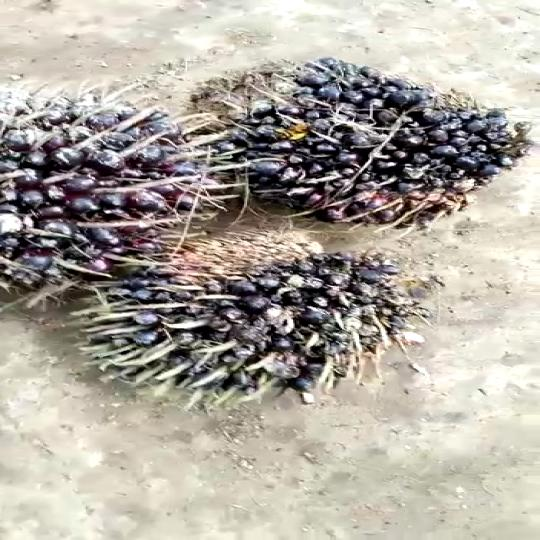mentah: (62, 225, 440, 397), (173, 66, 528, 232), (1, 96, 209, 308)
